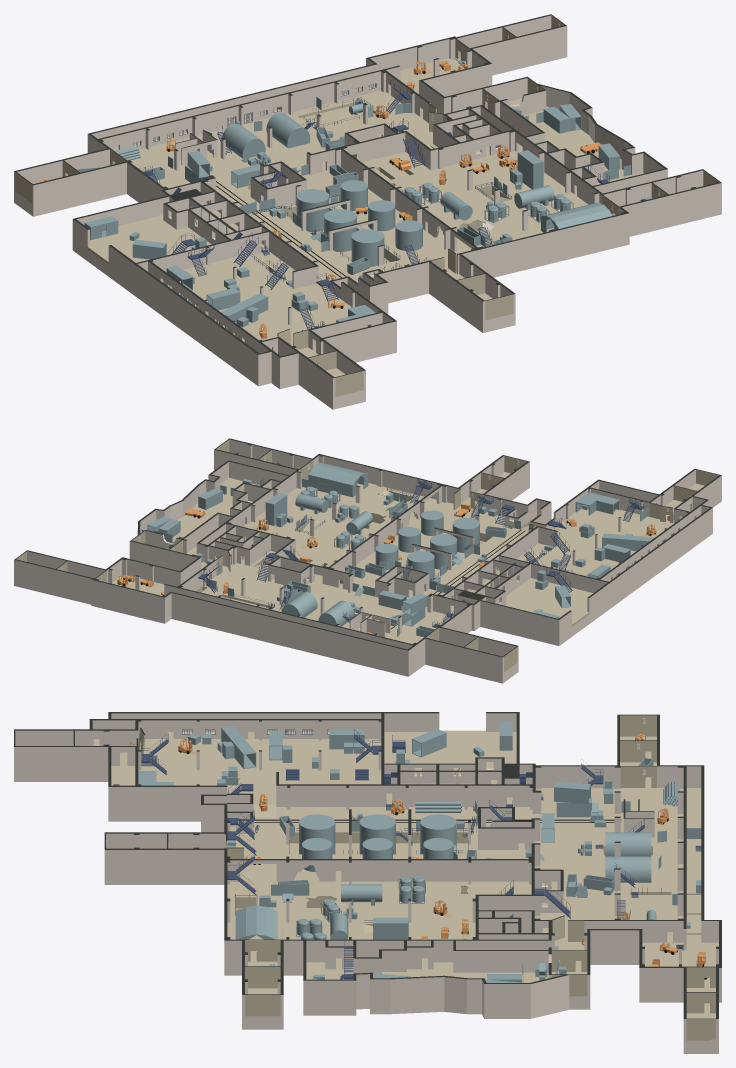
The model's file is factory_first_floor.glb.
3 renders of one model, top to bottom at view 1: azimuth 30°, elevation 25°; view 2: azimuth 150°, elevation 25°; view 3: azimuth 270°, elevation 25°, orthographic. The views are drawn at different scales.
Visible parts, largest first — view 1: root; view 2: root; view 3: root.
Part boxes in pixels (x1,y1,x2,y2): root: (14,14,721,409); root: (14,438,721,683); root: (14,712,721,1053).
Bounding box in the file's own units: 246 × 18.79 × 239.
Materials: 2 (2 with a texture image).
